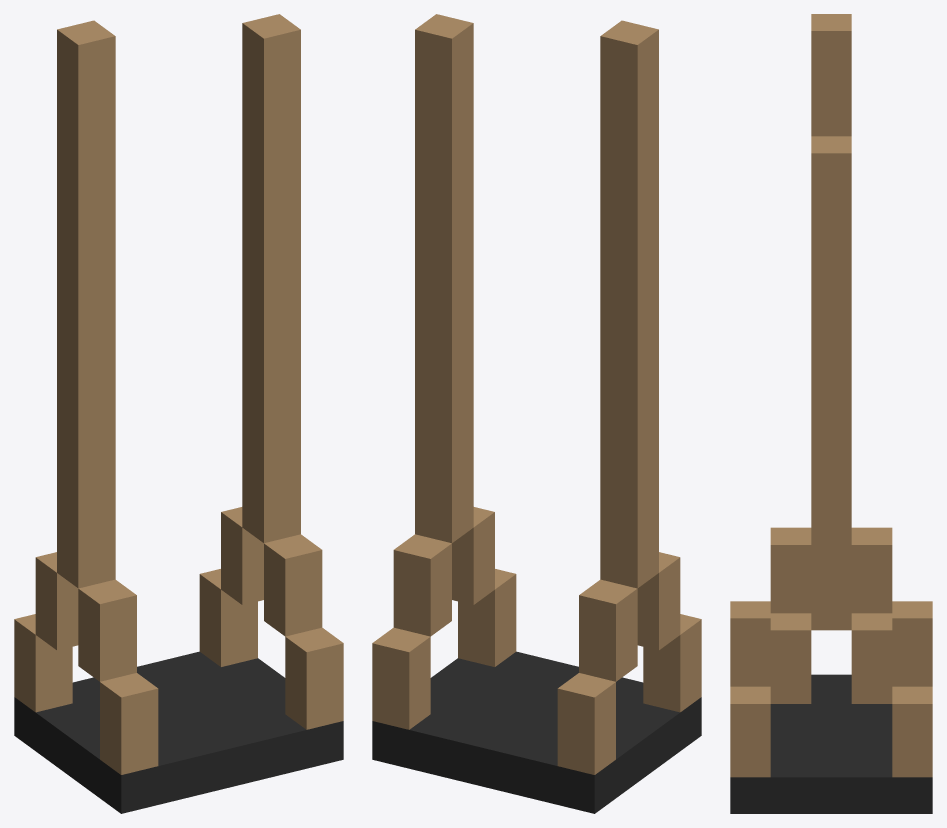
File: treepluss swing-0.obj
3 renders of one model, left to right at view 1: azimuth 30°, elevation 25°; view 2: azimuth 150°, elevation 25°; view 3: azimuth 270°, elevation 25°, orthographic. The views are drawn at different scales.
Bounding box in the file's own units: 0.6 × 1.9 × 0.5.
1 material, 1 textured.
